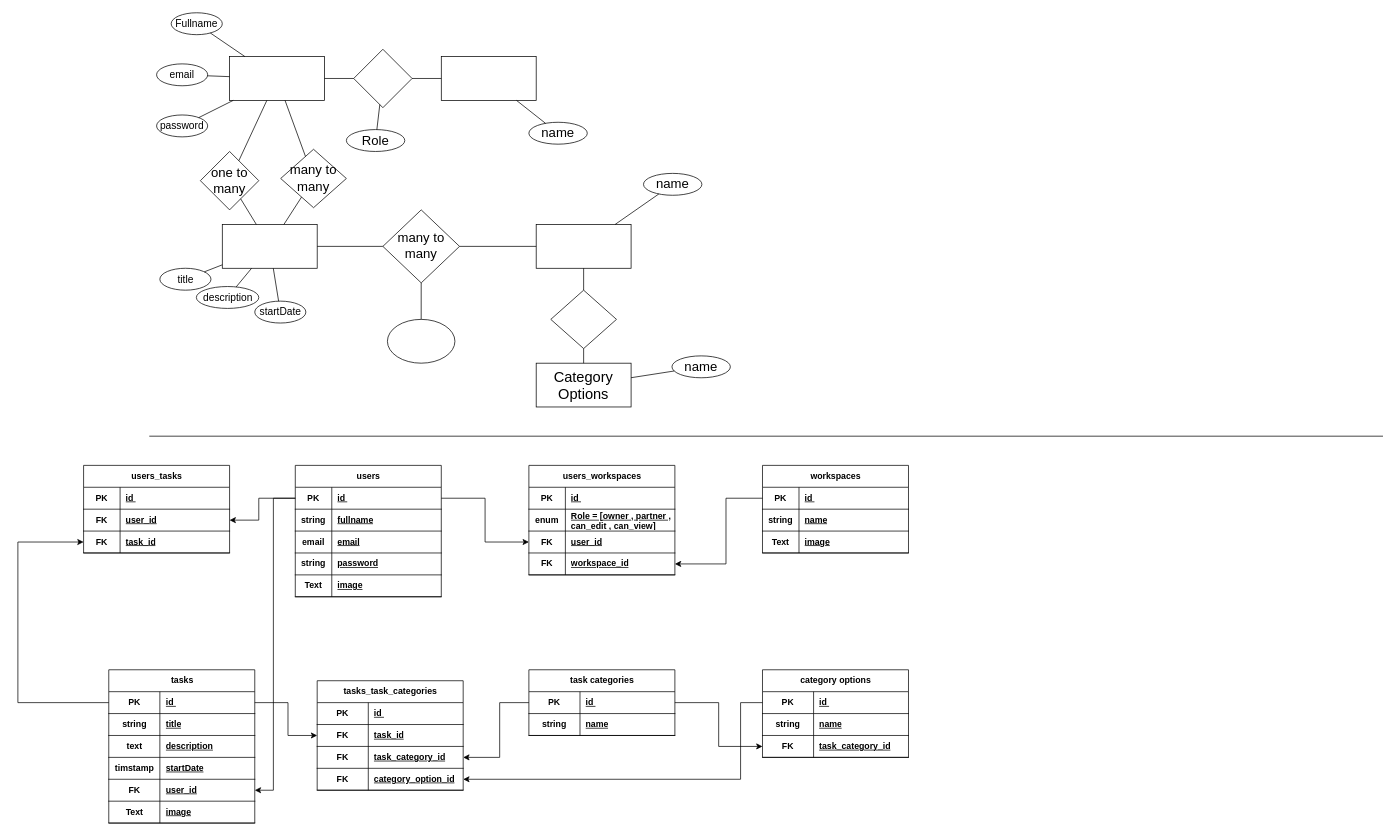
Image size: 1396x836. Some labels were removed from this diagram. The centre of each missing label's shape, as x and y in pixels:
"category option (id)" belongs at point 421,341.
"has many" belongs at point 583,319.
"In" belongs at point 382,78.
"Task" belongs at point 269,246.
"Task Category" belongs at point 583,246.
"User" belongs at point 276,78.
"Workspace" belongs at point 488,78.
